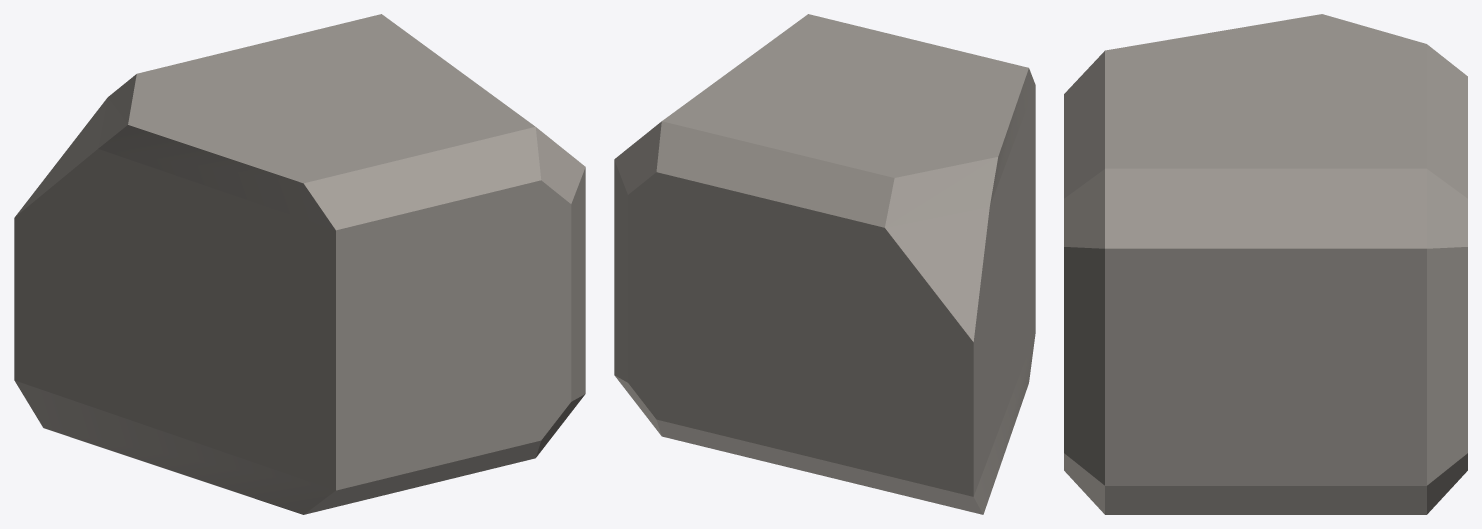
Rendered from Brick 02.FBX.
3 views of the same model, side by side, from view 1: azimuth 30°, elevation 25°; view 2: azimuth 150°, elevation 25°; view 3: azimuth 270°, elevation 25° (orthographic). The views are drawn at different scales.
Visible parts, largest first — view 1: Brick 02; view 2: Brick 02; view 3: Brick 02.
Part boxes in pixels (x1,y1,x2,y2): Brick 02: (14, 14, 585, 514); Brick 02: (614, 14, 1035, 514); Brick 02: (1064, 14, 1467, 514).
Size of the model in its own units: 42.03 by 33.5 by 35.42.
1 material, 1 textured.
